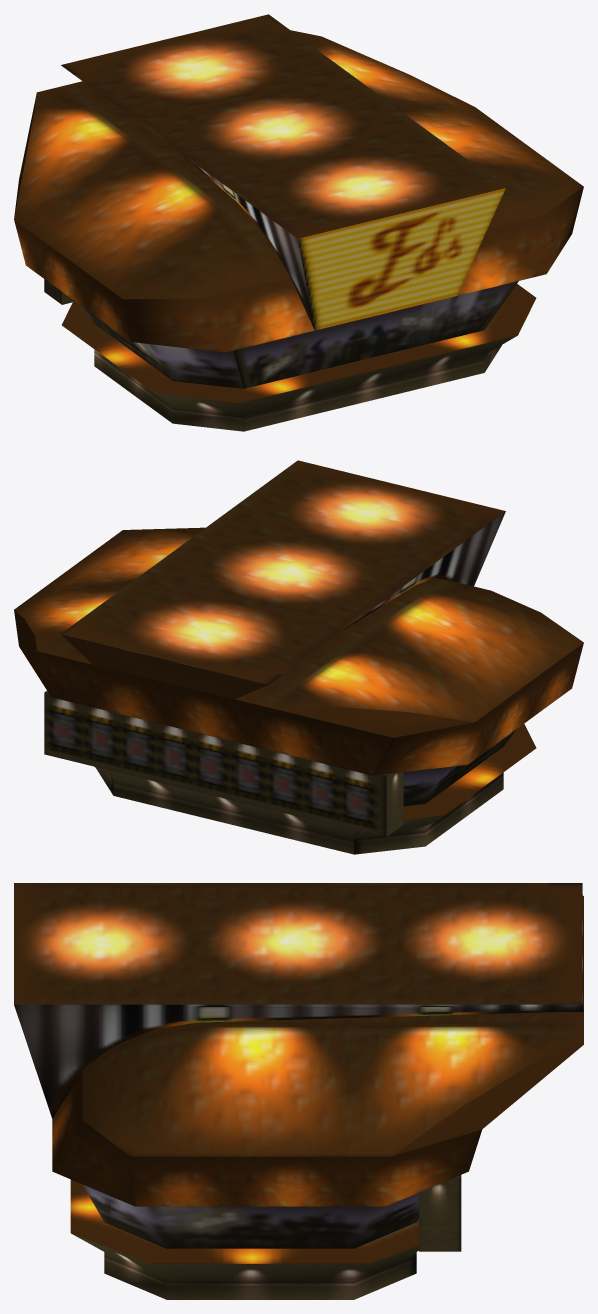
3 views of the same model, one above another, from view 1: azimuth 30°, elevation 25°; view 2: azimuth 150°, elevation 25°; view 3: azimuth 270°, elevation 25° (orthographic). The views are drawn at different scales.
Visible parts, largest first — view 1: frm-fuselg, frm-tfuselg; view 2: frm-fuselg, frm-tfuselg, frm-afuselg; view 3: frm-fuselg, frm-tfuselg, frm-afuselg.
Part boxes in pixels (x1,y1,x2,y2): frm-fuselg: (14, 30, 583, 431); frm-tfuselg: (61, 14, 505, 330); frm-fuselg: (14, 527, 583, 854); frm-tfuselg: (61, 460, 505, 699); frm-afuselg: (44, 691, 403, 837); frm-fuselg: (52, 896, 583, 1299); frm-tfuselg: (14, 883, 583, 1118); frm-afuselg: (419, 1175, 461, 1251).
Size of what is drawn, in the model's own units: 37.84 by 19.6 by 33.82.
Materials: 15 (6 with a texture image).
